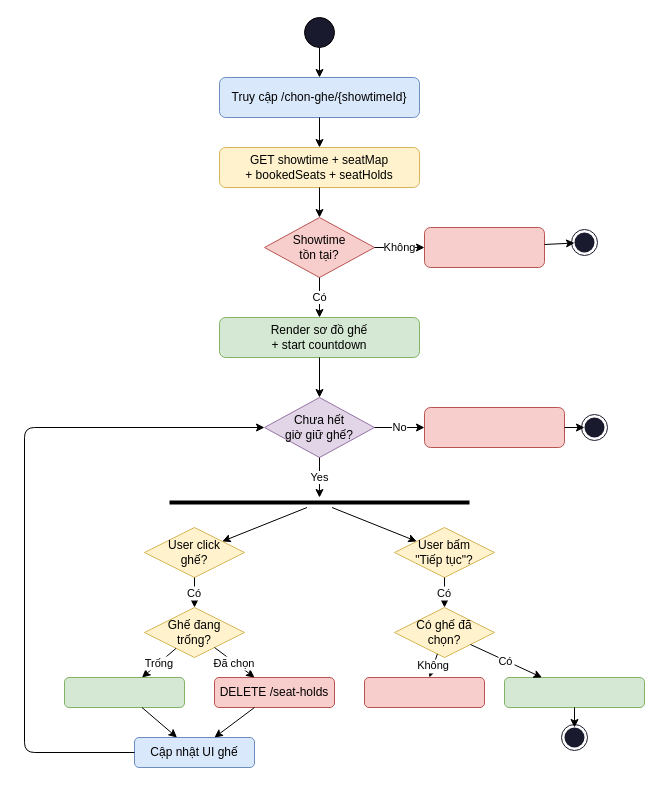
The diagram is 662 pixels wide and 785 high, and some of its shapes have lost their labels. Each missing label, with the centre of its shape:
Hiển thị 404/Lỗi: (x=484, y=247)
Hết thời gian Thông báo + Kết thúc: (x=494, y=427)
Navigate /dat-ve-combo: (x=574, y=692)
POST /seat-holds: (x=124, y=692)
Thông báo "Chọn ghế trước": (x=424, y=692)
